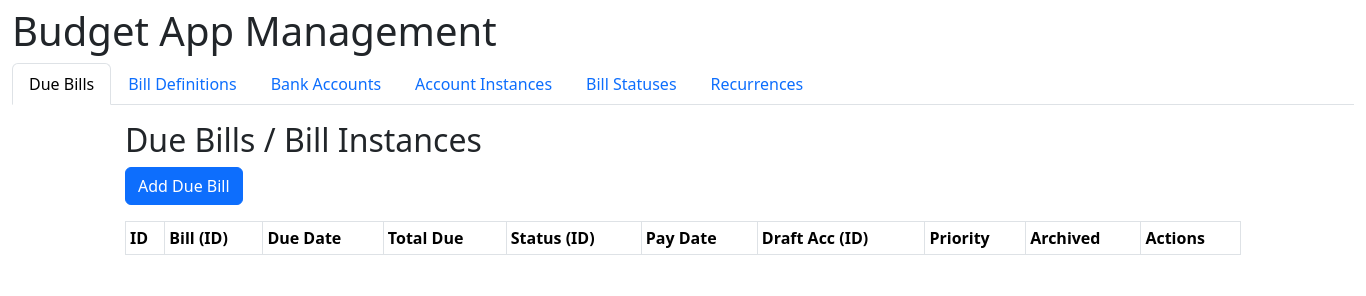
Scenario: App Component Tabs Functionality › should switch to "Bill Statuses" tab and render its content when clicked
This screenshot has width=1366, height=296.
Step 1. Click the tab "Bill Statuses" → (632, 84), box 569,63 -> 694,105
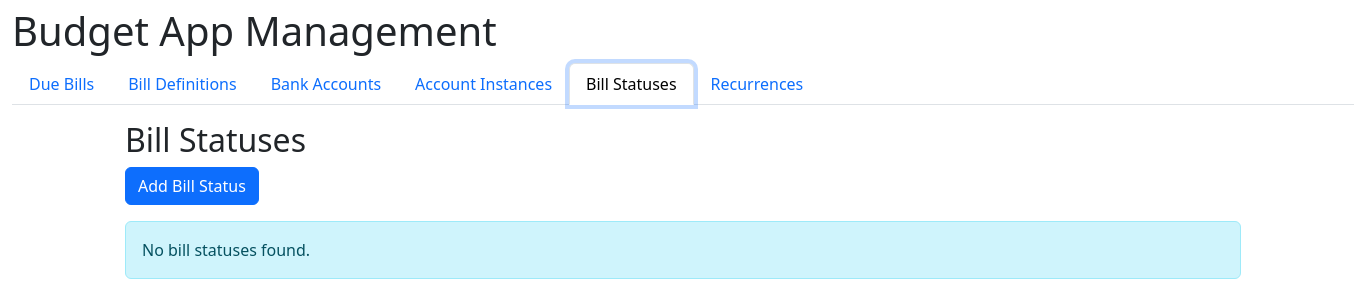
expect the heading "Bill Statuses" is shown: met, box 125,118 -> 306,161
expect the heading with test id "due-bills-heading" is gone: met
